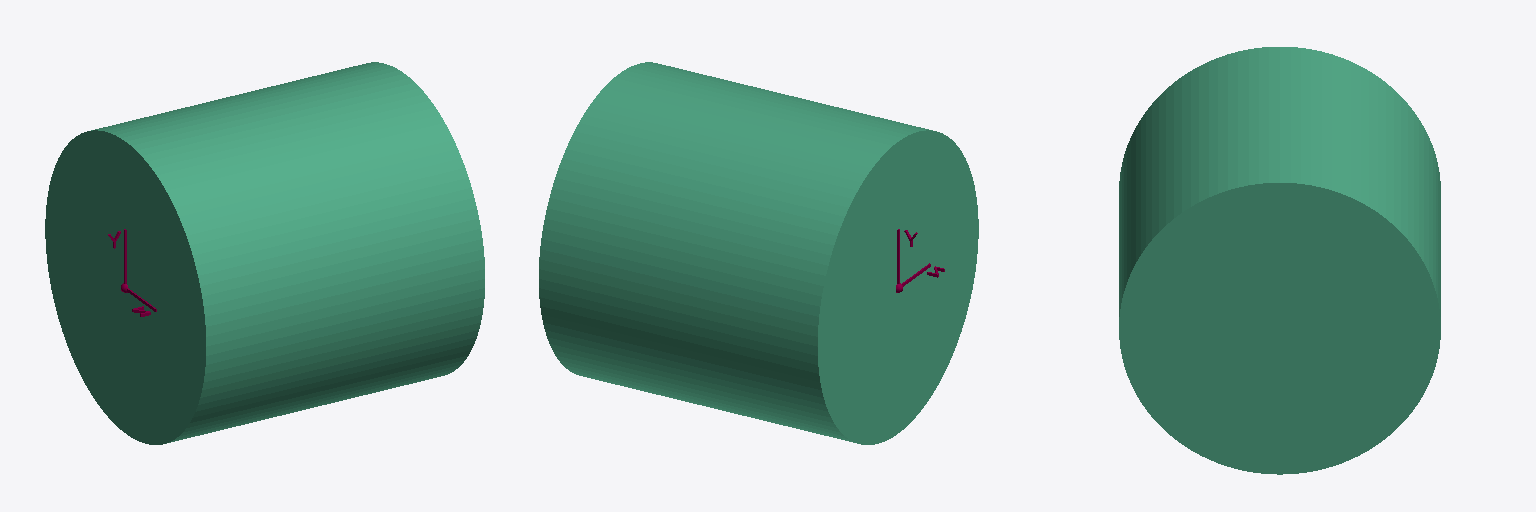
3 renders of one model, left to right at view 1: azimuth 30°, elevation 25°; view 2: azimuth 150°, elevation 25°; view 3: azimuth 270°, elevation 25°, orthographic.
Visible parts, largest first — view 1: TO BE DEFINED__Extrusion__4018; view 2: TO BE DEFINED__Extrusion__4018; view 3: TO BE DEFINED__Extrusion__4018.
Boxes of the visible parts, x1=… form: TO BE DEFINED__Extrusion__4018: x1=45, y1=62, x2=484, y2=444; TO BE DEFINED__Extrusion__4018: x1=539, y1=62, x2=978, y2=444; TO BE DEFINED__Extrusion__4018: x1=1119, y1=47, x2=1440, y2=474.
Size of the model in its own units: 533 by 500 by 500.